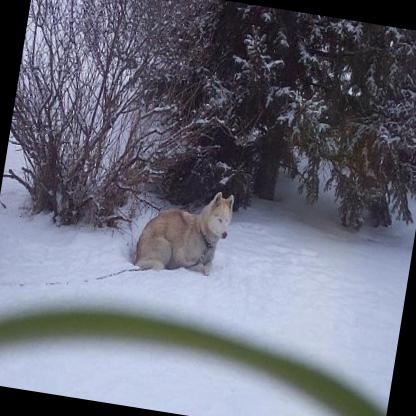Siberian_husky: (134, 178, 232, 278)
